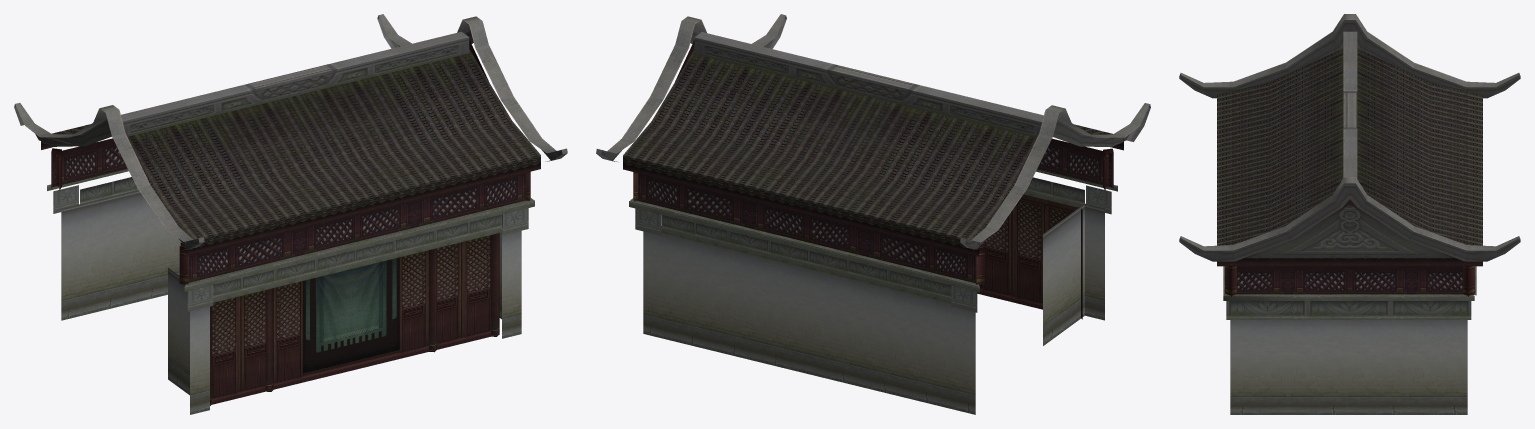
Rendered from zc_suzhou_zhujian03.FBX.
3 renders of one model, left to right at view 1: azimuth 30°, elevation 25°; view 2: azimuth 150°, elevation 25°; view 3: azimuth 270°, elevation 25°, orthographic. The views are drawn at different scales.
Visible parts, largest first — view 1: zc_suzhou_zhujian03; view 2: zc_suzhou_zhujian03; view 3: zc_suzhou_zhujian03.
Boxes of the visible parts, x1,y1,x2,y2 form: zc_suzhou_zhujian03: [14, 14, 567, 414]; zc_suzhou_zhujian03: [596, 14, 1150, 414]; zc_suzhou_zhujian03: [1179, 14, 1520, 414].
Size of the model in its own units: 1014 by 674 by 864.
Materials: 1 (1 with a texture image).
